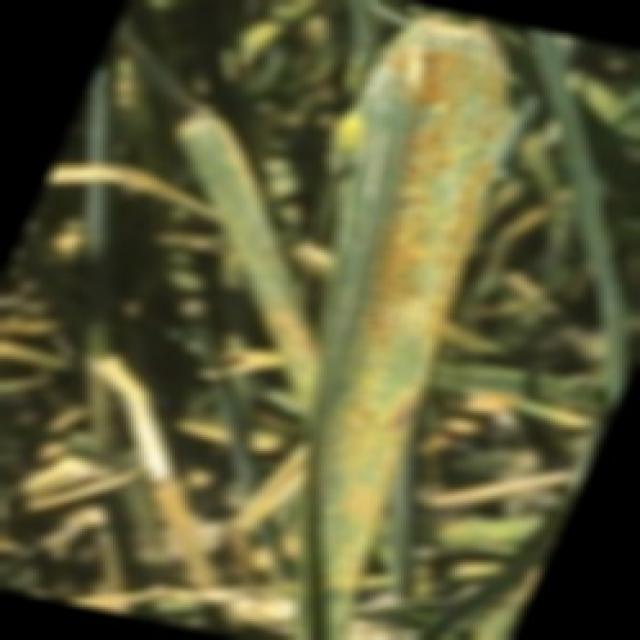Elderberry_rust: (271, 0, 579, 640)
